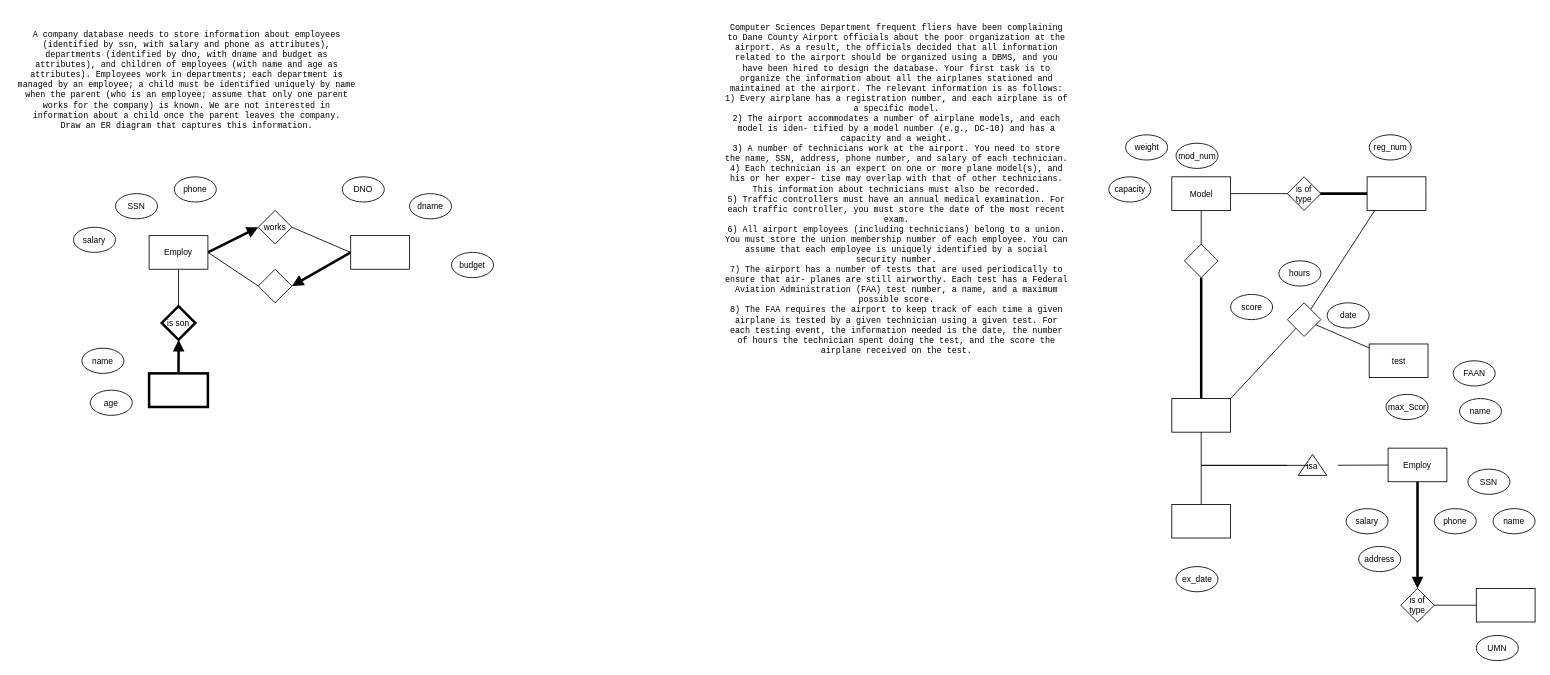
This 1550x675 diagram has some shape labels left out. Here are the shapes that lost their labels. From the top down, the box of each, then its label:
(1366, 176, 1426, 210): airplane
(350, 235, 410, 269): department
(1184, 243, 1218, 278): expertise
(257, 268, 292, 303): manage
(1286, 302, 1321, 336): tests
(147, 372, 209, 408): Children
(1171, 398, 1231, 432): Technician
(1171, 504, 1231, 538): Traffic controller
(1475, 588, 1535, 622): Union
